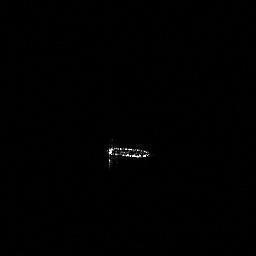ship: (106, 143, 151, 164)
